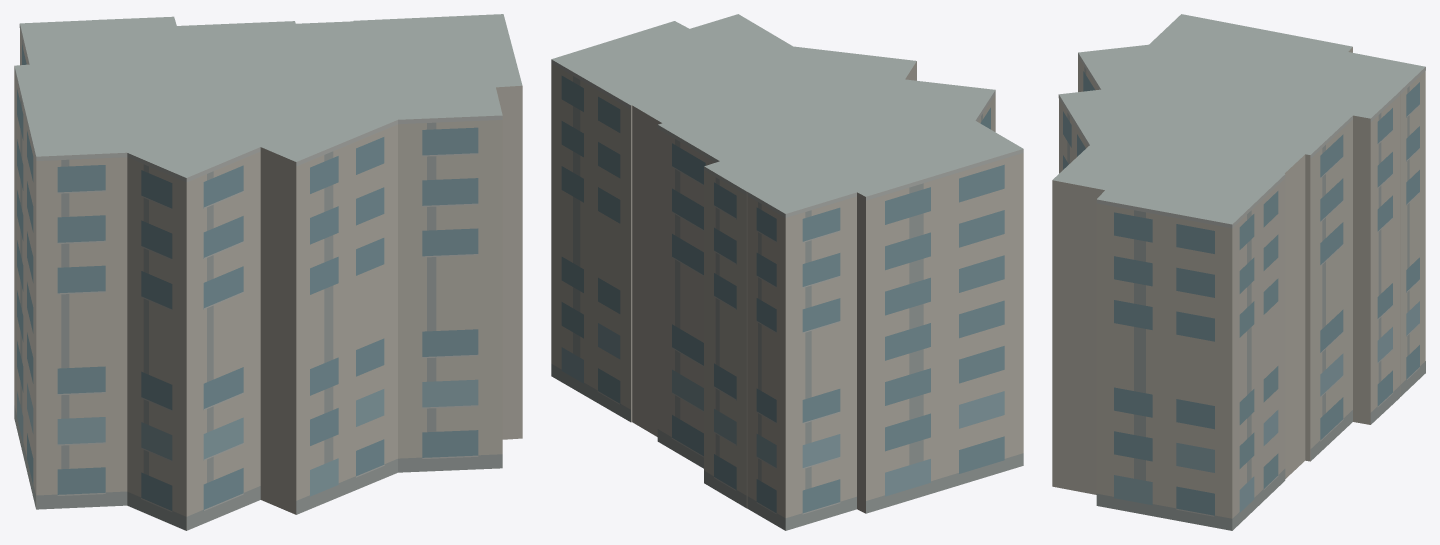
File: survey-upis-32834663.glb
The picture shows the model from 3 angles, left to right: view 1: azimuth 30°, elevation 25°; view 2: azimuth 150°, elevation 25°; view 3: azimuth 270°, elevation 25°; orthographic projection. The views are drawn at different scales.
Visible parts, largest first — view 1: survey-upis-32834663.tmp; view 2: survey-upis-32834663.tmp; view 3: survey-upis-32834663.tmp.
Part boxes in pixels (<box>): survey-upis-32834663.tmp: <box>14,14,522,530</box>; survey-upis-32834663.tmp: <box>551,14,1023,530</box>; survey-upis-32834663.tmp: <box>1052,14,1425,530</box>.
Bounding box in the file's own units: 28.52 × 19.35 × 21.39.
